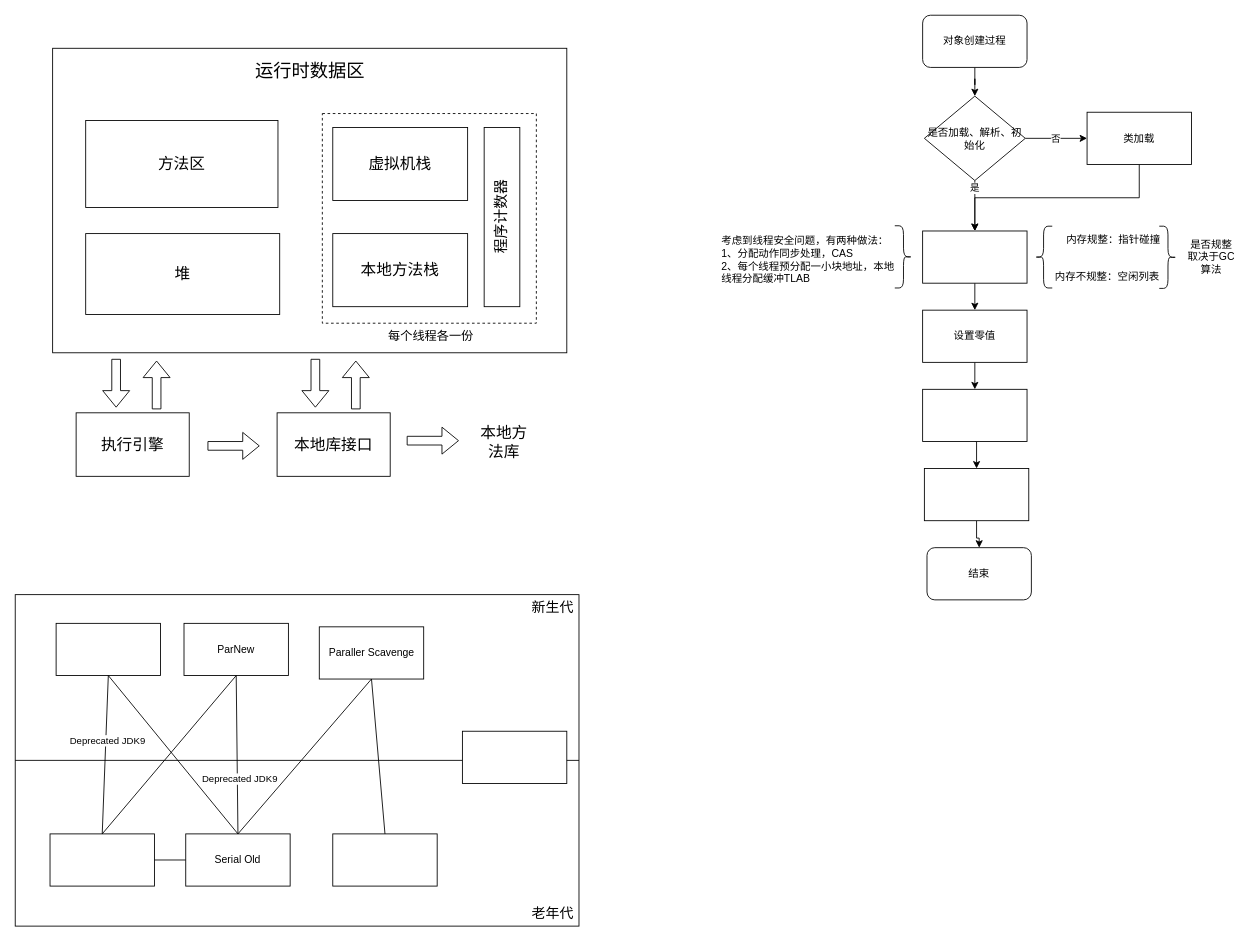
This 1253x941 diagram has some shape labels left out. Each missing label, with the centre of its shape:
"CMS" goes at pixel 101 859.
"G1" goes at pixel 514 756.
"Parallel Old" goes at pixel 384 859.
"Serial" goes at pixel 108 649.
"分配内存" goes at pixel 974 256.
"初始化" goes at pixel 976 494.
"设置对象头" goes at pixel 974 415.
